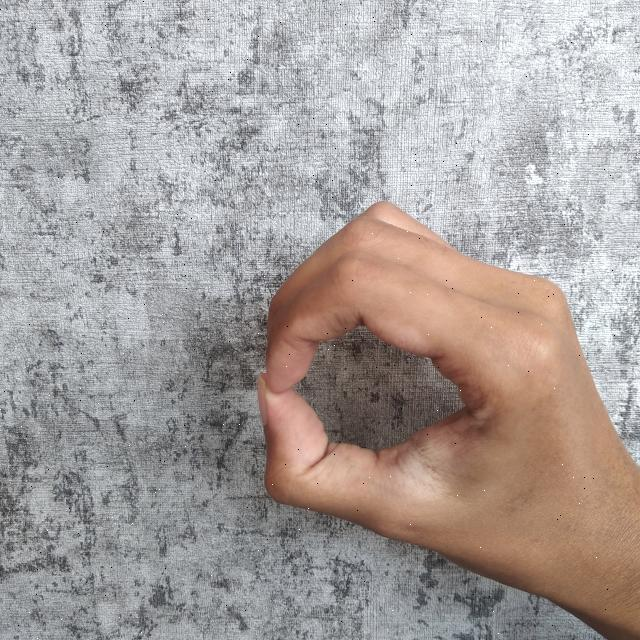O: (259, 185, 640, 640)
